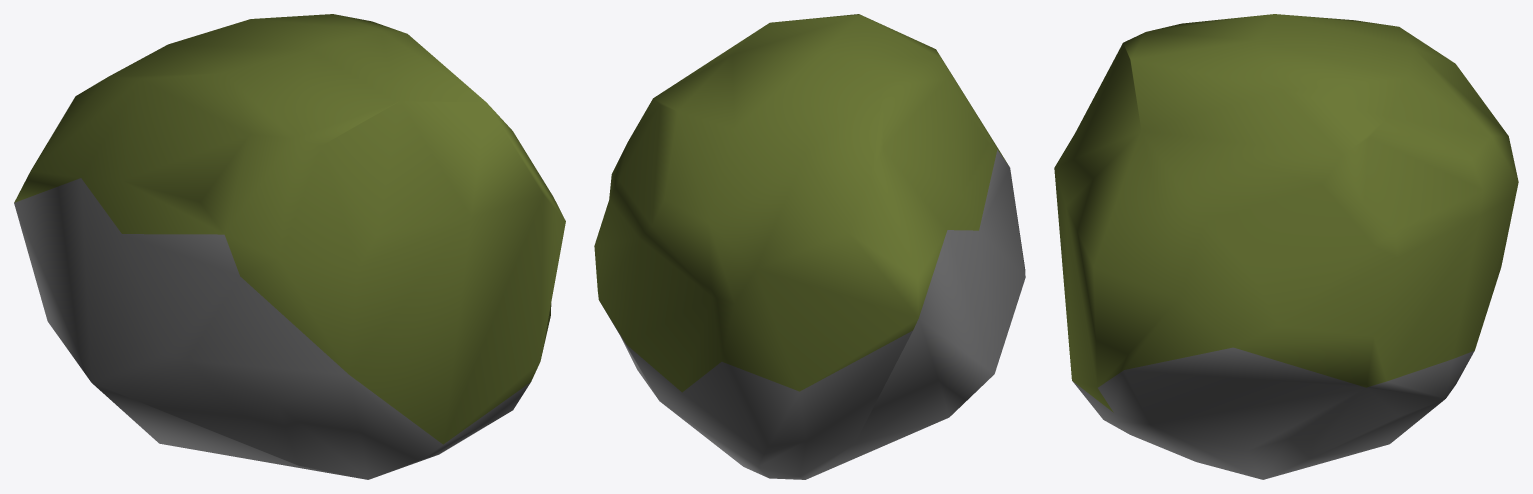
File: Rock_1_mossy.fbx
3 renders of one model, left to right at view 1: azimuth 30°, elevation 25°; view 2: azimuth 150°, elevation 25°; view 3: azimuth 270°, elevation 25°, orthographic. The views are drawn at different scales.
Visible parts, largest first — view 1: Rock_1_mossy; view 2: Rock_1_mossy; view 3: Rock_1_mossy.
Part boxes in pixels (bbox=[...]): Rock_1_mossy: bbox=[14, 14, 565, 479]; Rock_1_mossy: bbox=[594, 14, 1025, 479]; Rock_1_mossy: bbox=[1054, 14, 1518, 479].
Size of the model in its own units: 34.79 by 32.73 by 34.34.
1 material, 1 textured.
